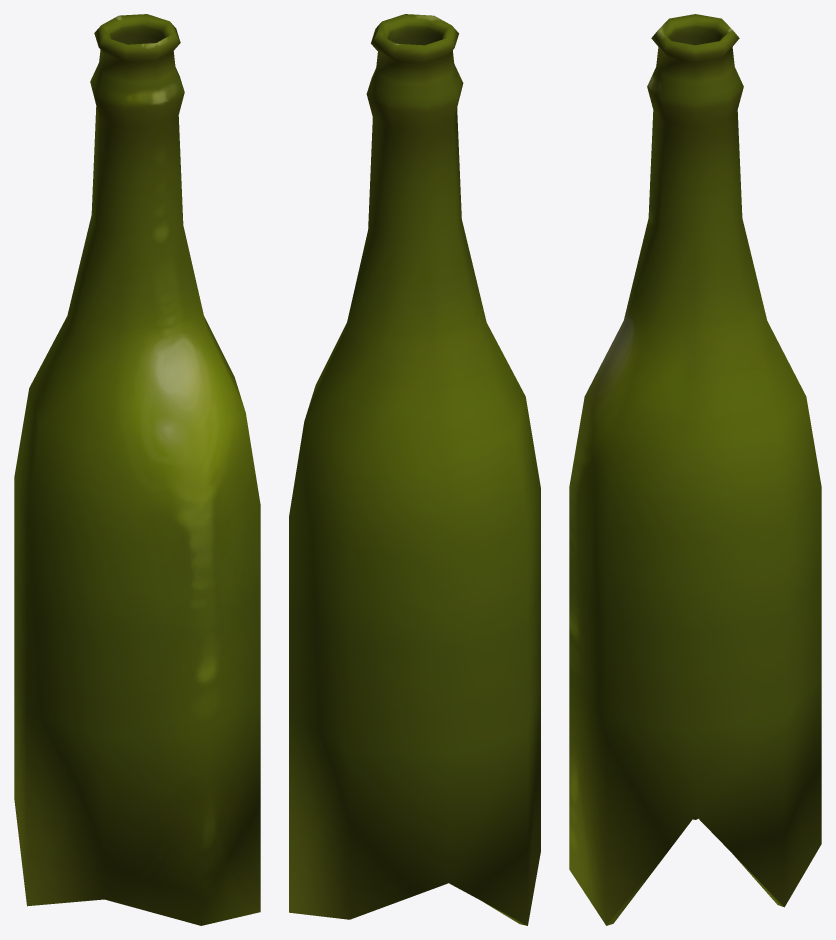
File: broken bottle.fbx
3 views of the same model, side by side, from view 1: azimuth 30°, elevation 25°; view 2: azimuth 150°, elevation 25°; view 3: azimuth 270°, elevation 25° (orthographic). The views are drawn at different scales.
Parts seen in each view (by area): view 1: Broken bottle; view 2: Broken bottle; view 3: Broken bottle.
Boxes of the visible parts, x1=… form: Broken bottle: x1=14, y1=14, x2=260, y2=925; Broken bottle: x1=289, y1=14, x2=540, y2=925; Broken bottle: x1=569, y1=14, x2=821, y2=925.
Bounding box in the file's own units: 200 × 751 × 200.
1 material, 1 textured.
